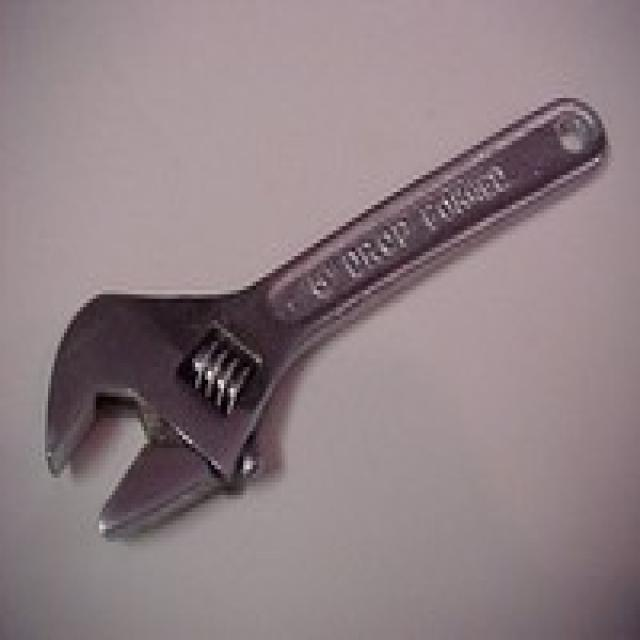wrench: (38, 92, 616, 546)
